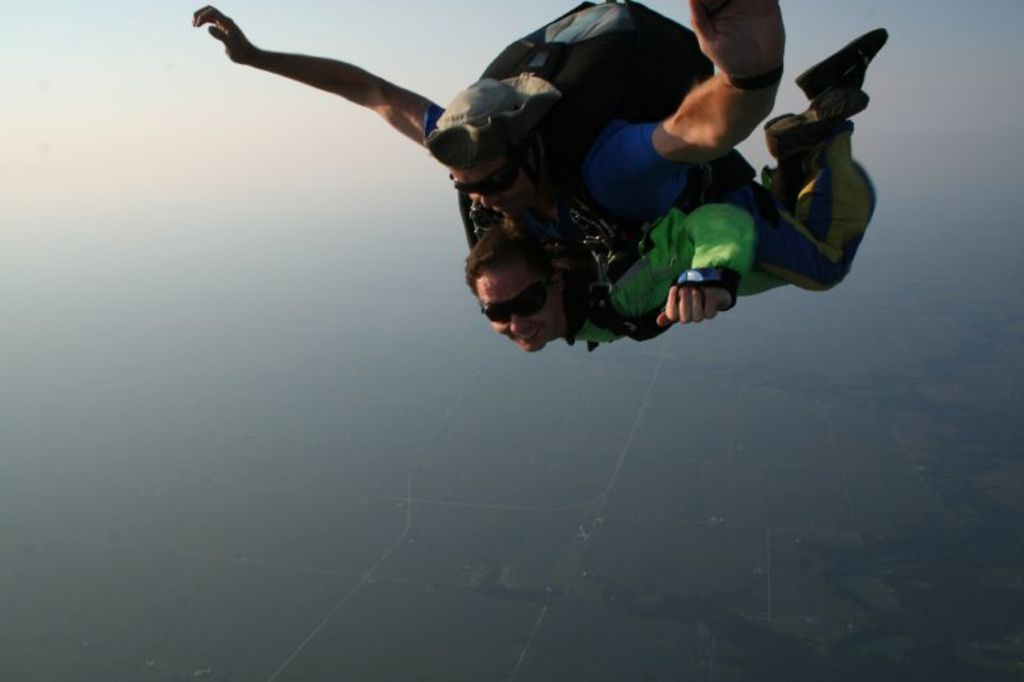Person: (192, 0, 785, 219)
